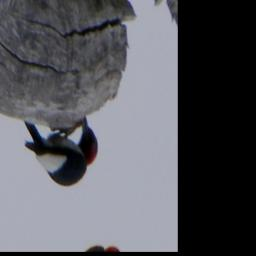Woodpecker: (17, 81, 106, 211)
